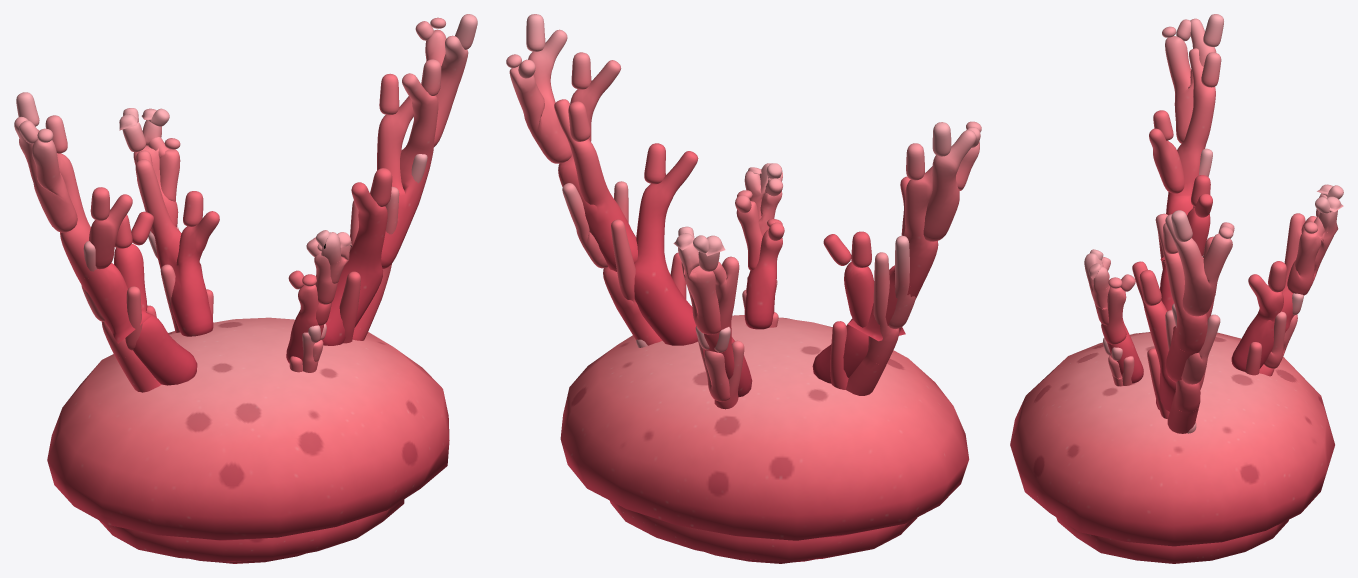
File: RedCoral.fbx
3 renders of one model, left to right at view 1: azimuth 30°, elevation 25°; view 2: azimuth 150°, elevation 25°; view 3: azimuth 270°, elevation 25°, orthographic. The views are drawn at different scales.
Parts seen in each view (by area): view 1: RedCoral_S3, RedCoral_S2; view 2: RedCoral_S3, RedCoral_S2; view 3: RedCoral_S3, RedCoral_S2.
Part boxes in pixels (left/top/right/bottom): RedCoral_S3: left=14, top=14, right=477, bottom=540; RedCoral_S2: left=81, top=154, right=427, bottom=562; RedCoral_S3: left=506, top=14, right=981, bottom=540; RedCoral_S2: left=562, top=181, right=916, bottom=562; RedCoral_S3: left=1010, top=14, right=1343, bottom=546; RedCoral_S2: left=1056, top=148, right=1303, bottom=563.
Bounding box in the file's own units: 0.3717 × 0.3668 × 0.2623.
